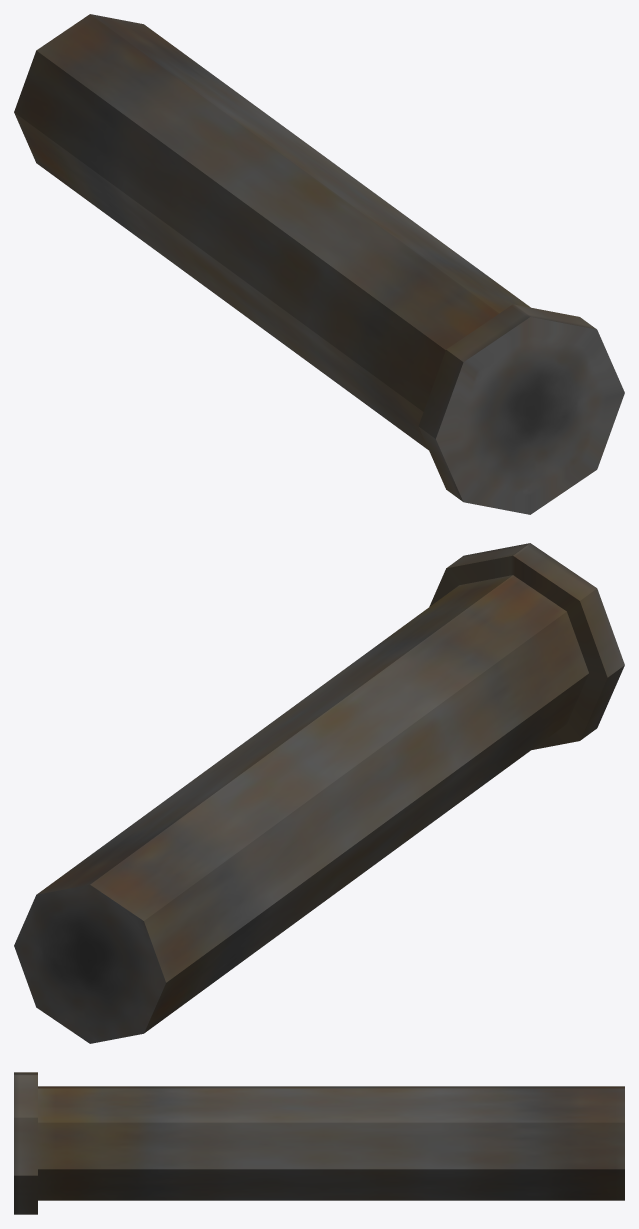
The model's file is pipe_single_grime.obj.
The picture shows the model from 3 angles, top to bottom: view 1: azimuth 30°, elevation 25°; view 2: azimuth 150°, elevation 25°; view 3: azimuth 270°, elevation 25°; orthographic projection. The views are drawn at different scales.
Visible parts, largest first — view 1: pipe_single_grime; view 2: pipe_single_grime; view 3: pipe_single_grime.
Part boxes in pixels (left/top/right/bottom): pipe_single_grime: left=14, top=14, right=624, bottom=514; pipe_single_grime: left=14, top=543, right=624, bottom=1043; pipe_single_grime: left=14, top=1072, right=624, bottom=1214.
Bounding box in the file's own units: 0.124 × 0.124 × 0.5.
